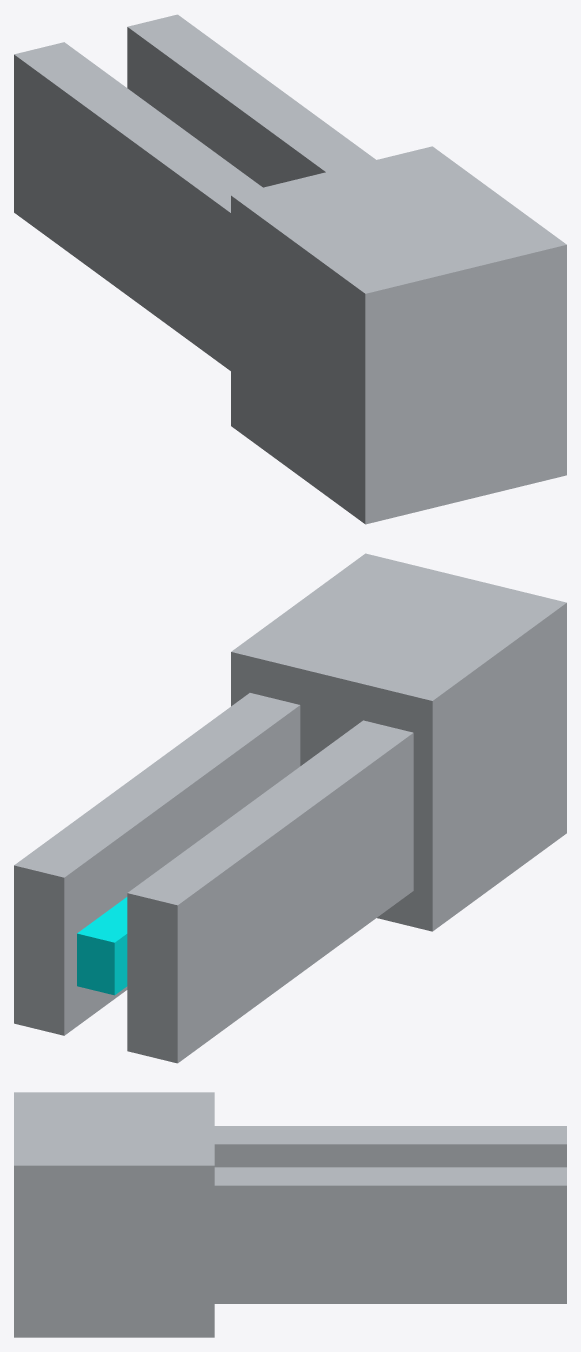
Rendered from Weapons_Railgun_02.glb.
The picture shows the model from 3 angles, top to bottom: view 1: azimuth 30°, elevation 25°; view 2: azimuth 150°, elevation 25°; view 3: azimuth 270°, elevation 25°; orthographic projection. The views are drawn at different scales.
Visible parts, largest first — view 1: Weapons_Railgun_02_gltf_export_temp; view 2: Weapons_Railgun_02_gltf_export_temp; view 3: Weapons_Railgun_02_gltf_export_temp.
Part boxes in pixels (x1,y1,x2,y2): Weapons_Railgun_02_gltf_export_temp: (14, 14, 566, 524); Weapons_Railgun_02_gltf_export_temp: (14, 553, 566, 1063); Weapons_Railgun_02_gltf_export_temp: (14, 1092, 566, 1337).
Size of the model in its own units: 0.3697 by 0.4043 by 1.18.
